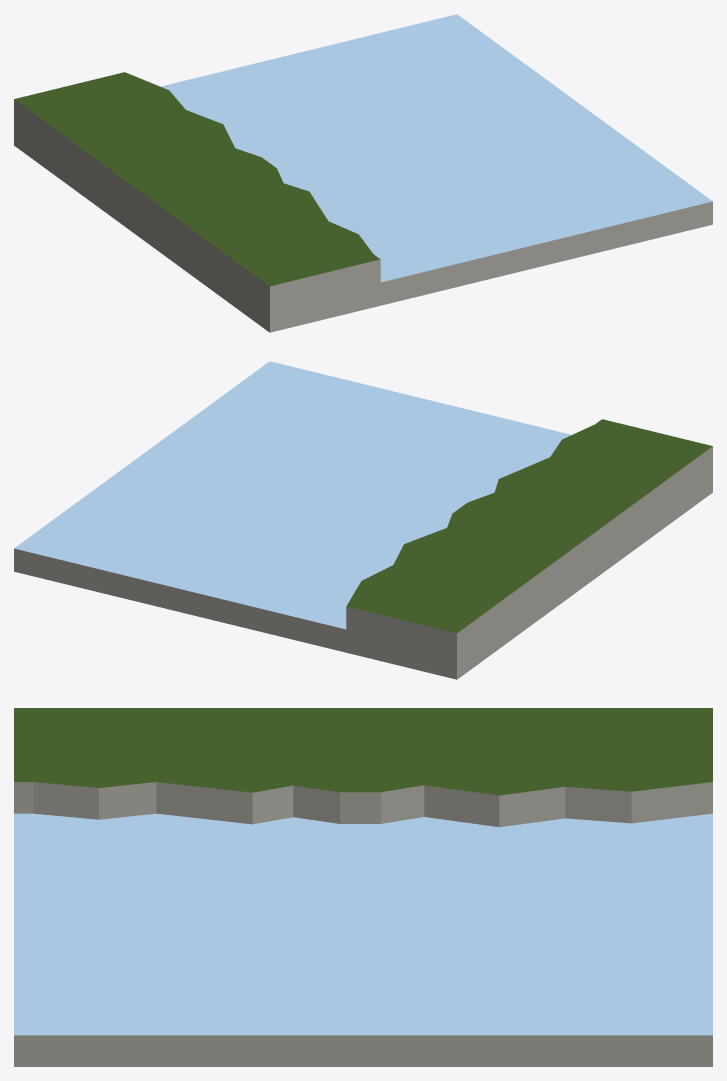
The model's file is Terrain_Modular_Tiles_Grass_Rock_Water_Edge_Straight_03.fbx.
The picture shows the model from 3 angles, top to bottom: view 1: azimuth 30°, elevation 25°; view 2: azimuth 150°, elevation 25°; view 3: azimuth 270°, elevation 25°; orthographic projection. The views are drawn at different scales.
Visible parts, largest first — view 1: Terrain_Modular_Tiles_Grass_Rock_Water_Edge_Straight_03; view 2: Terrain_Modular_Tiles_Grass_Rock_Water_Edge_Straight_03; view 3: Terrain_Modular_Tiles_Grass_Rock_Water_Edge_Straight_03.
Part boxes in pixels (x1,y1,x2,y2): Terrain_Modular_Tiles_Grass_Rock_Water_Edge_Straight_03: (14,14,712,332); Terrain_Modular_Tiles_Grass_Rock_Water_Edge_Straight_03: (14,361,712,679); Terrain_Modular_Tiles_Grass_Rock_Water_Edge_Straight_03: (14,708,712,1066).
Bounding box in the file's own units: 118 × 11.81 × 118.
